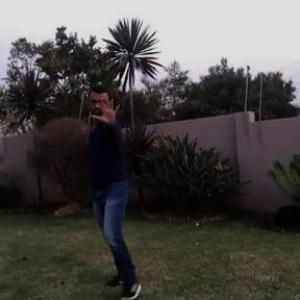follow_hand: (87, 94, 123, 127)
